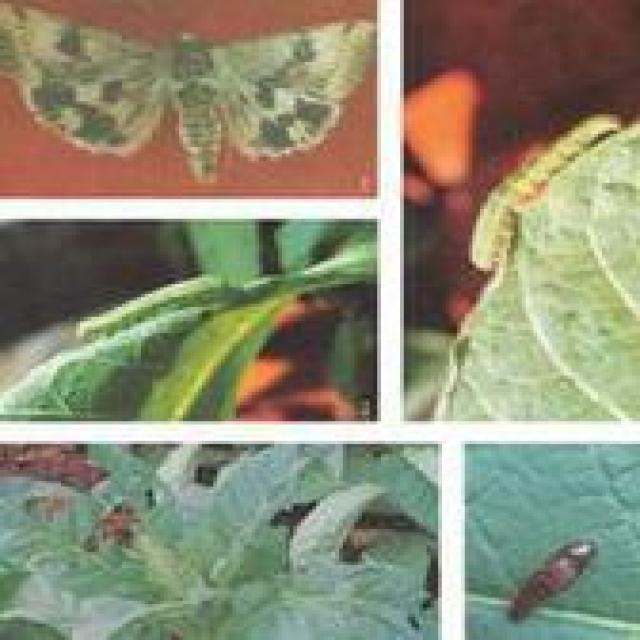BeetArmyWorm-Adult-: (1, 2, 376, 193)
BeetArmyWorm-Larva-: (455, 107, 624, 285), (68, 272, 237, 356)
